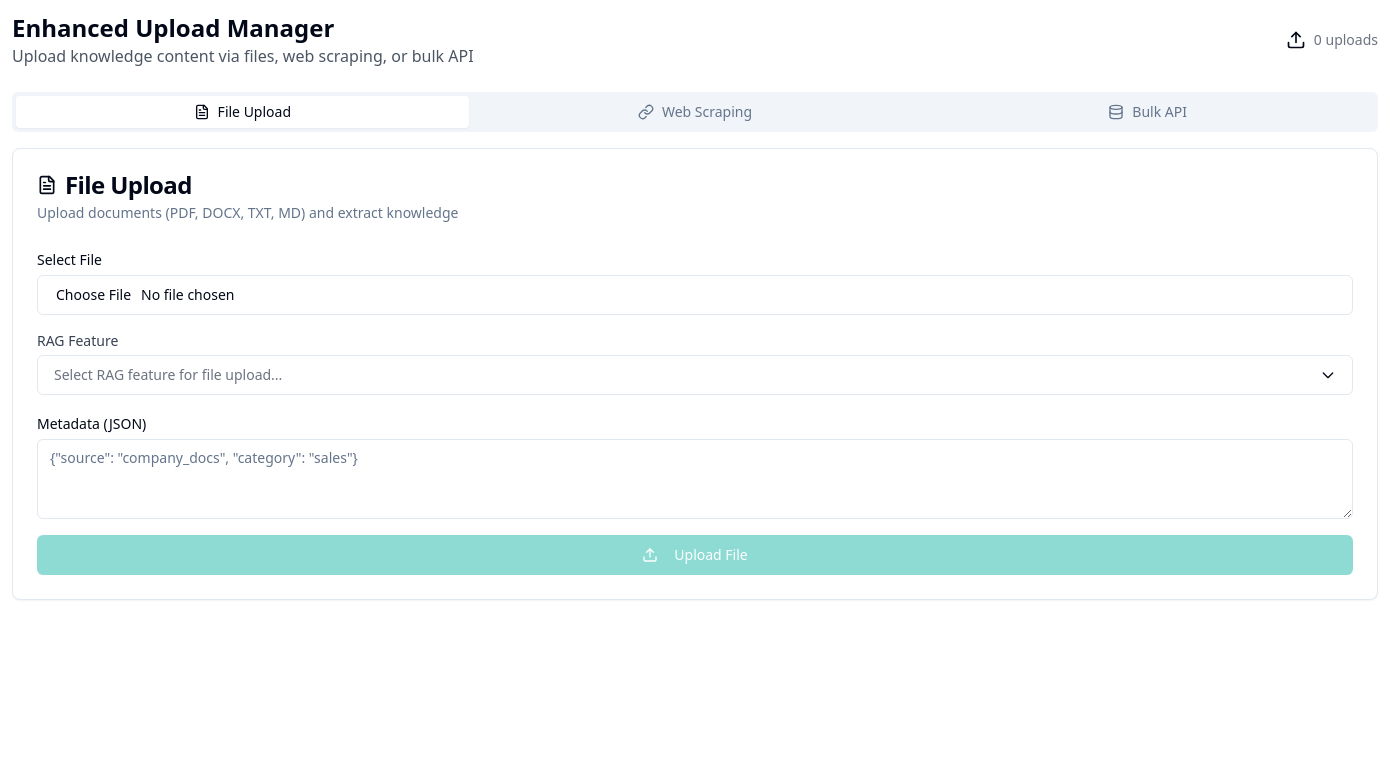
EnhancedUploadManager › shows bulk API form in bulk tab
// Switch to bulk tab (use first element to avoid ambiguity)
What coordinates should you click on to do the following:
click the tab "Bulk API"
I would click on:
 (1148, 112)
Its box is [921,96,1374,128].
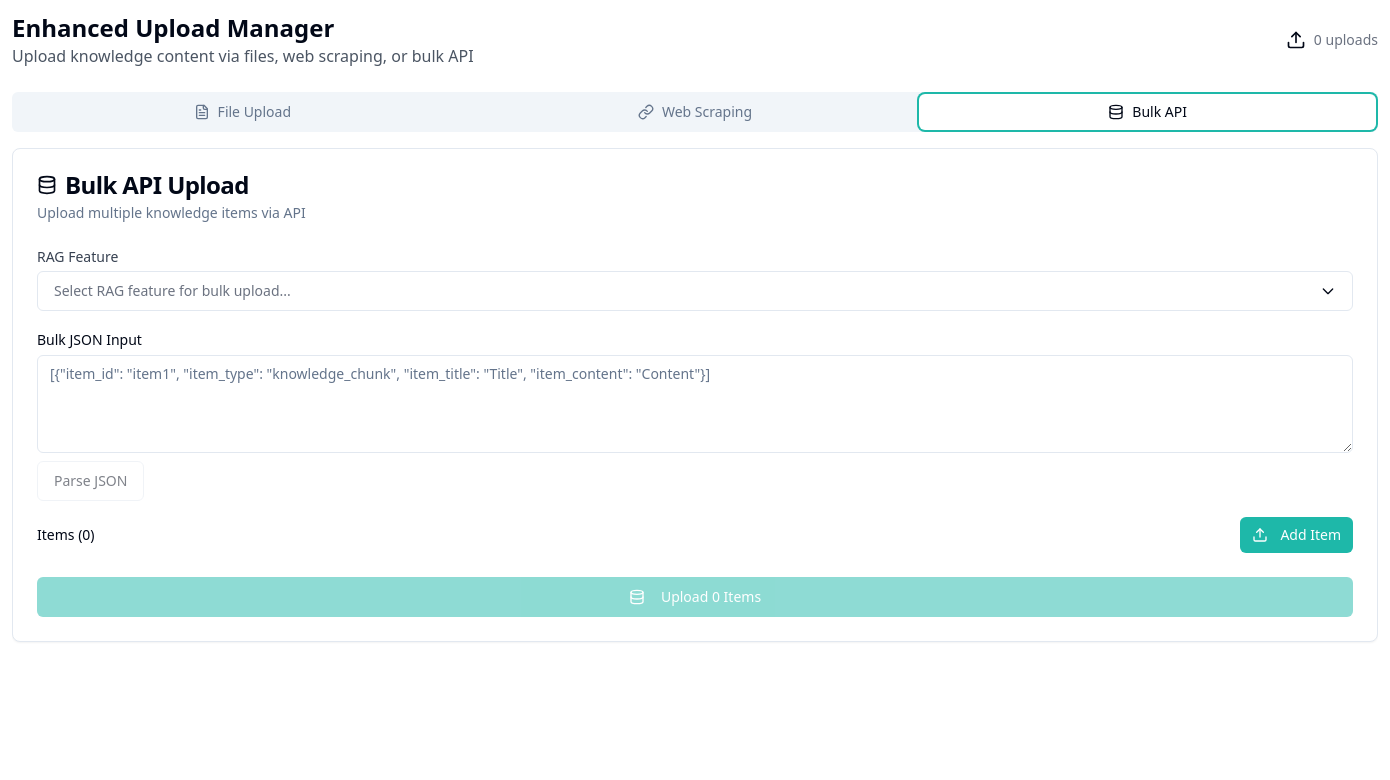
Check: the text box is shown, box [37,355,1353,453]
